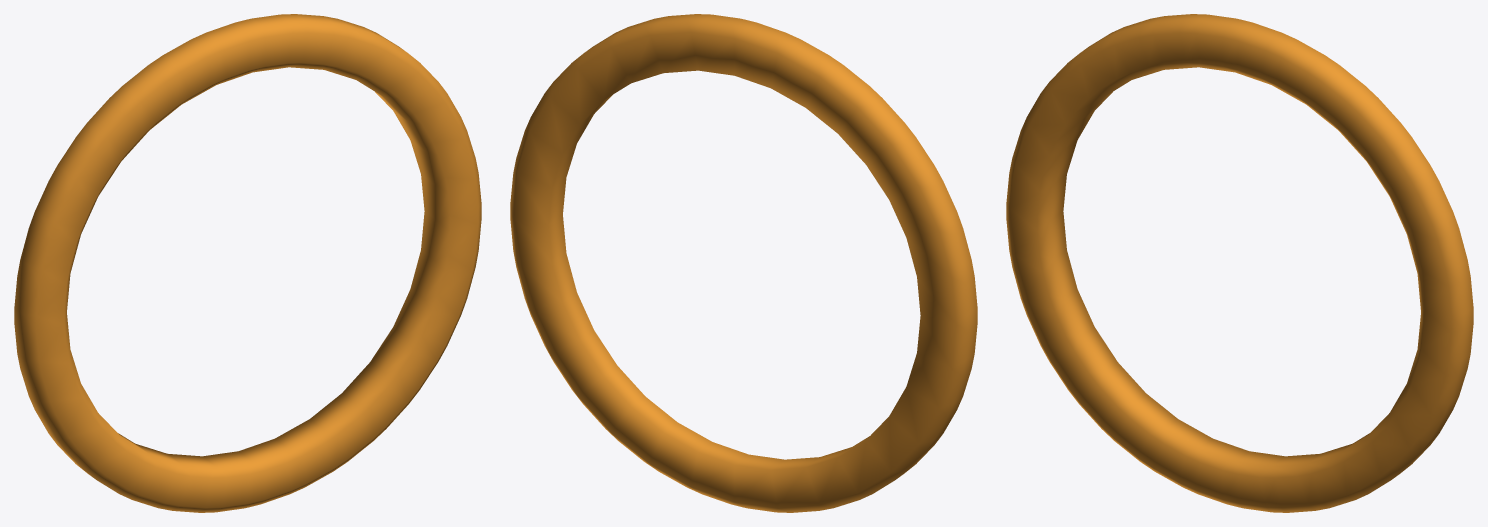
File: SpeedCircle.fbx
3 renders of one model, left to right at view 1: azimuth 30°, elevation 25°; view 2: azimuth 150°, elevation 25°; view 3: azimuth 330°, elevation 25°, orthographic.
Parts seen in each view (by area): view 1: SpeedCircle; view 2: SpeedCircle; view 3: SpeedCircle.
Part boxes in pixels (<box>): SpeedCircle: <box>14,14,481,512</box>; SpeedCircle: <box>510,14,977,512</box>; SpeedCircle: <box>1006,14,1473,512</box>.
Bounding box in the file's own units: 199 × 14.18 × 199.
